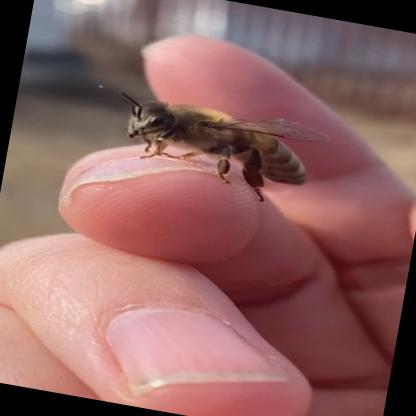bee: (87, 73, 346, 222)
